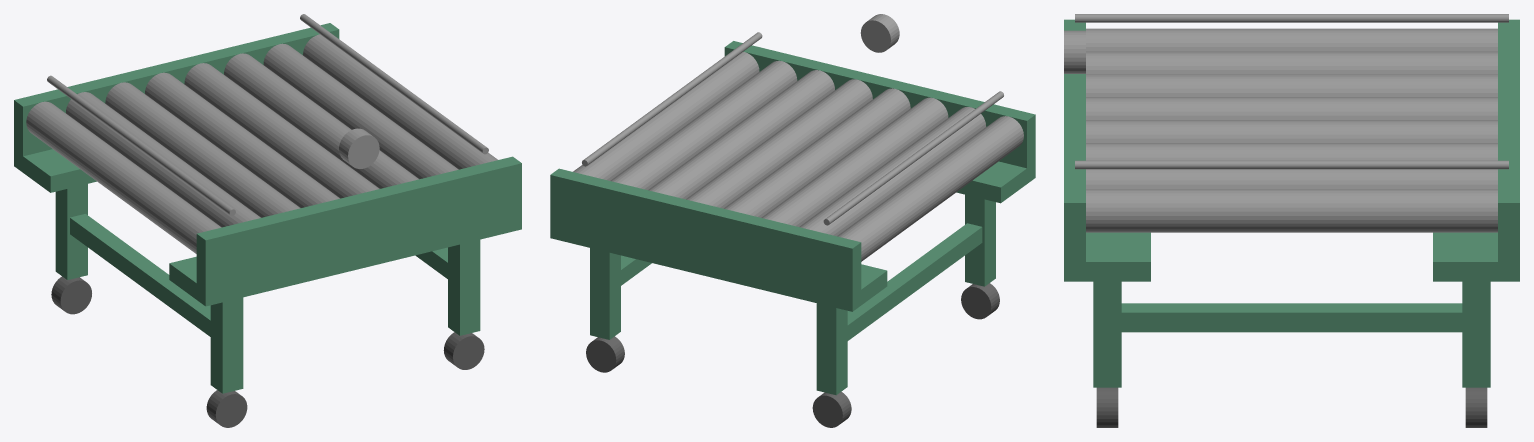
File: plateform_conveyor_ver4.gltf
The picture shows the model from 3 angles, left to right: view 1: azimuth 30°, elevation 25°; view 2: azimuth 150°, elevation 25°; view 3: azimuth 270°, elevation 25°; orthographic projection. The views are drawn at different scales.
Parts seen in each view (by area): view 1: RightFrame, Roller_0, Roller_2, Roller_4, Roller_3, RightBottonFrame, Roller_6, Roller_7, Roller_5, LeftFrame, Roller_1, LeftBottonFrame.002 (+11 smaller); view 2: LeftFrame, Roller_0, Roller_4, Roller_5, Roller_2, Roller_3, Roller_6, LeftBottonFrame, Roller_7, RightFrame, Roller_1, LeftBottonFrame.002 (+11 smaller); view 3: Roller_7, LeftBottonFrame.001, Roller_0, Roller_1, Roller_2, Roller_3, Roller_4, Roller_6, Roller_5, LeftFrame, Sensor_1, RightFrame (+8 smaller).
Boxes of the visible parts, x1,y1,x2,y2 form: RightFrame: (196, 156, 521, 289); Roller_0: (26, 101, 221, 253); Roller_2: (105, 82, 300, 217); Roller_4: (184, 63, 379, 198); Roller_3: (145, 72, 339, 207); RightBottonFrame: (169, 213, 521, 306); Roller_6: (263, 43, 458, 179); Roller_7: (303, 34, 497, 169); Roller_5: (224, 53, 418, 188); LeftFrame: (14, 23, 339, 156); Roller_1: (66, 92, 260, 227); LeftBottonFrame.002: (70, 214, 210, 336); LeftFrame: (550, 168, 861, 295); Roller_0: (837, 116, 1023, 261); Roller_4: (686, 79, 872, 208); Roller_5: (648, 70, 834, 199); Roller_2: (762, 97, 948, 226); Roller_3: (724, 88, 910, 217); Roller_6: (611, 60, 797, 189); LeftBottonFrame: (550, 222, 887, 311); Roller_7: (573, 52, 759, 180); RightFrame: (724, 41, 1035, 168); Roller_1: (799, 107, 986, 236); LeftBottonFrame.002: (847, 223, 982, 340); Roller_7: (1086, 189, 1497, 232); LeftBottonFrame.001: (1121, 303, 1462, 332); Roller_0: (1086, 28, 1497, 51); Roller_1: (1086, 51, 1497, 74); Roller_2: (1086, 74, 1497, 97); Roller_3: (1086, 97, 1497, 120); Roller_4: (1086, 120, 1497, 143); Roller_6: (1086, 169, 1497, 188); Roller_5: (1086, 143, 1497, 160); LeftFrame: (1498, 19, 1519, 261); Sensor_1: (1075, 160, 1508, 169); RightFrame: (1064, 19, 1085, 261).
Size of the model in its own units: 2 by 1.65 by 2.1.
